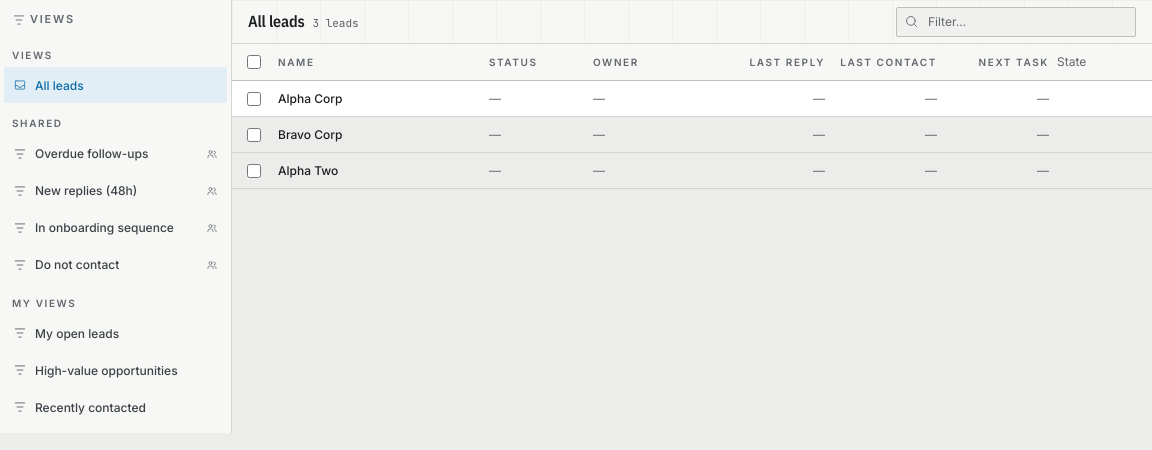
Scenario: LeadsSurface — filter, selection, reduced motion › the filter narrows loaded rows and can be cleared
Expected: the text "Alpha Corp" is shown, [278,91,342,106]
Type "Alpha" into the search field named "Filter these leads".
click(1016, 22); type("Alpha")  # box [896,6,1136,36]
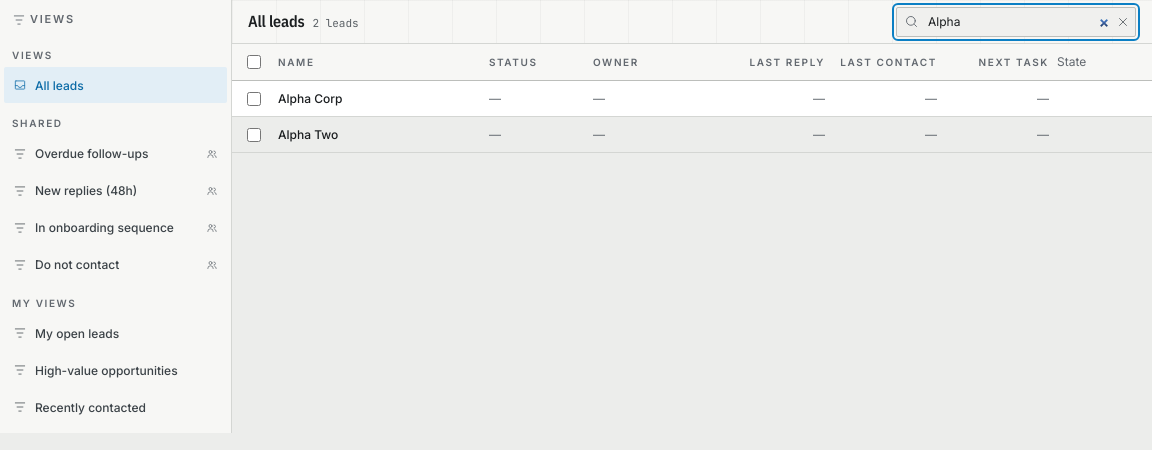
Expected: the text "Alpha Corp" is shown, [278,91,342,106]
Now the text "Bravo Corp" is gone
Click the button named "Clear filter".
click(1123, 22)  # box [1114,12,1132,30]
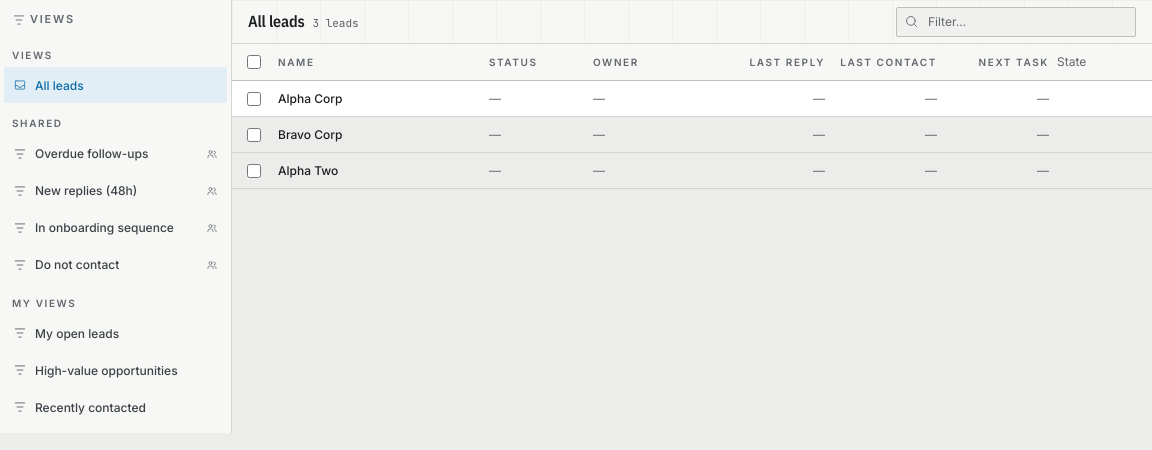
Now the text "Bravo Corp" is shown, box [278,127,342,142]
